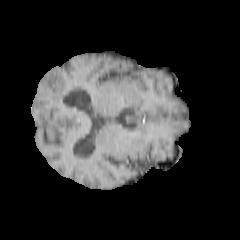glioma: (42, 74, 67, 104)
